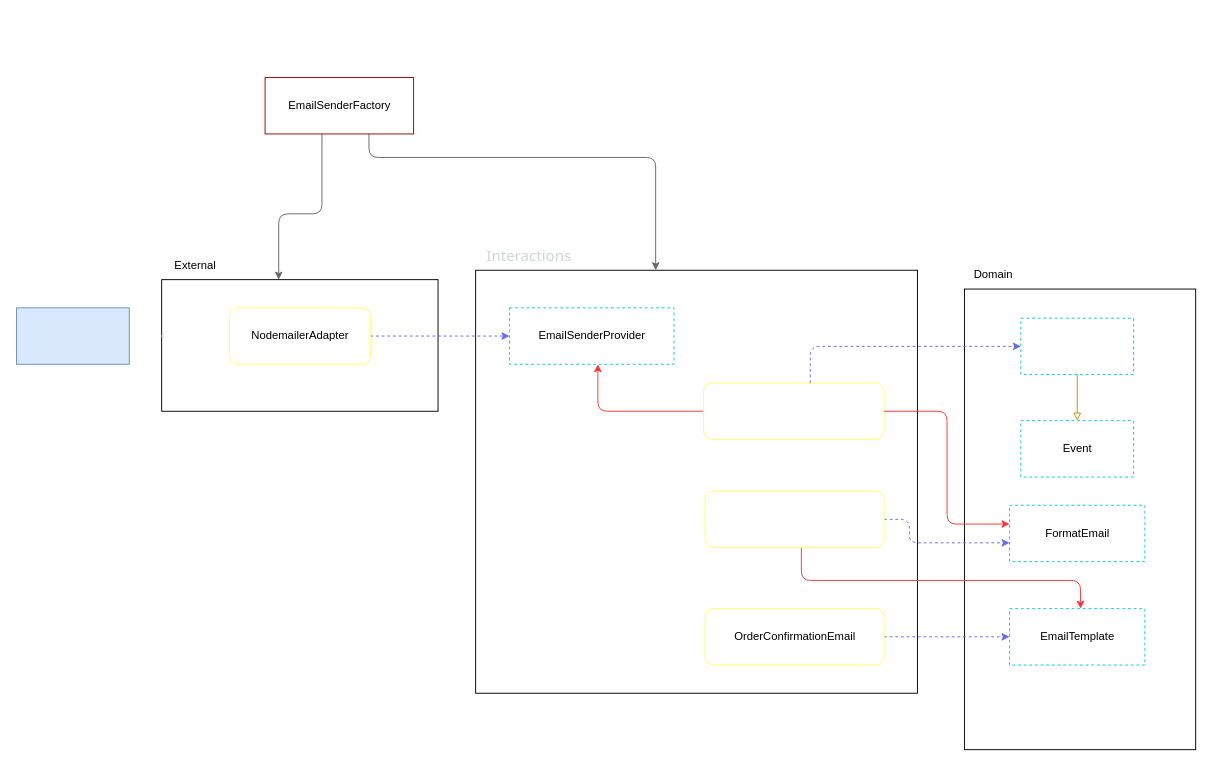
Some shapes in this 1213 by 766 pixel diagram are drawn without their labels. Here are the shapes that lost their labels. From the top down, the box of each, then its label:
(16, 307, 129, 364): Nodemailer
(1020, 317, 1134, 375): EmailSender
(703, 382, 884, 439): EmailSenderUseCase
(704, 490, 884, 548): TransactionFormatEmail
